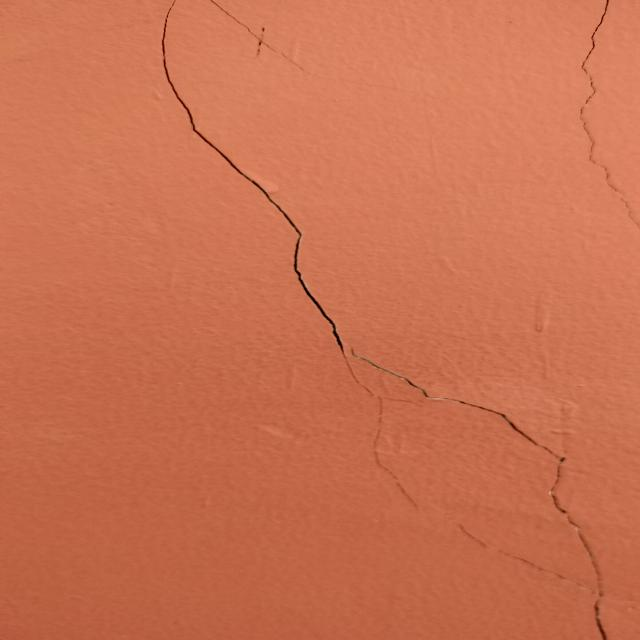Crack: (148, 2, 566, 506)
